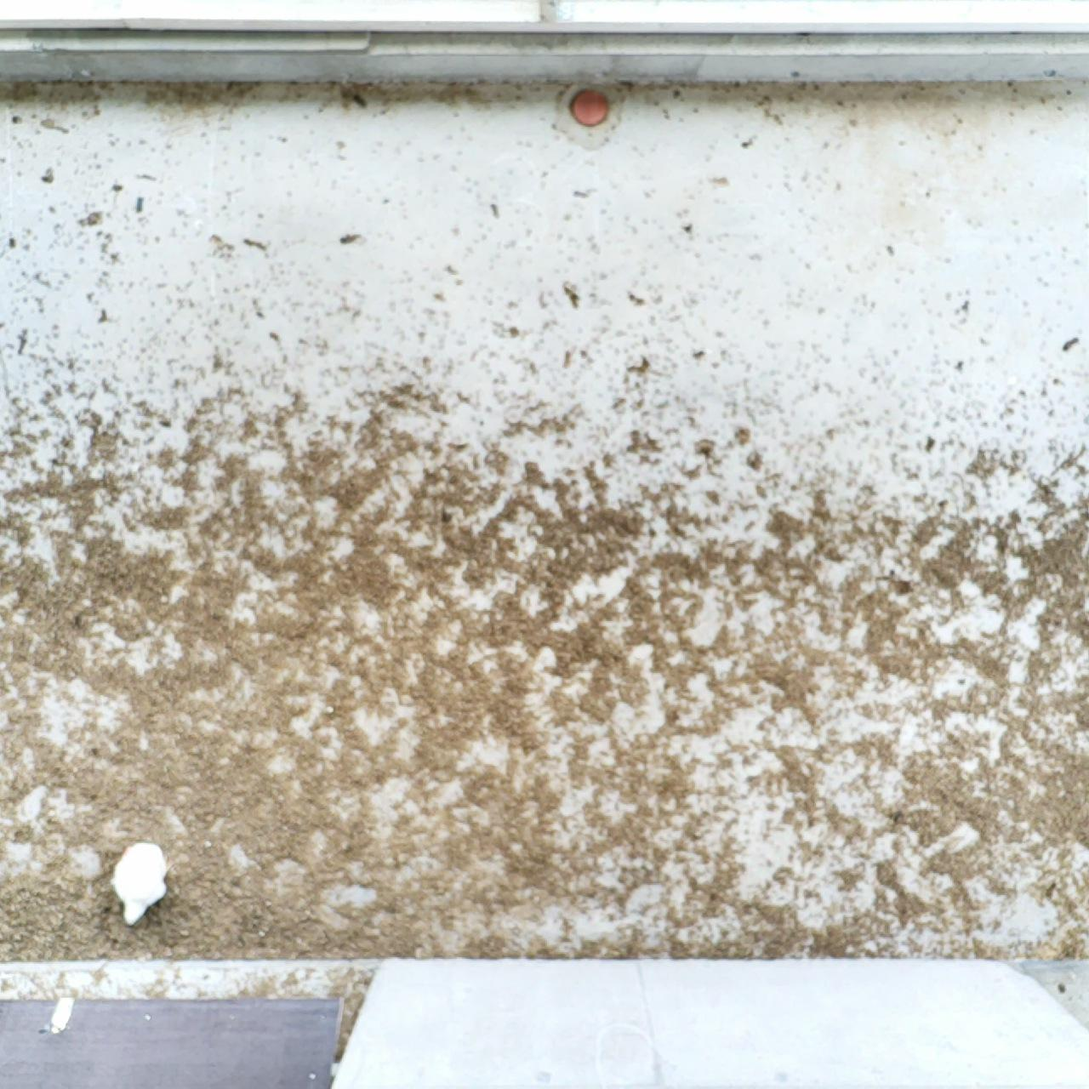chicken: (106, 837, 180, 931)
